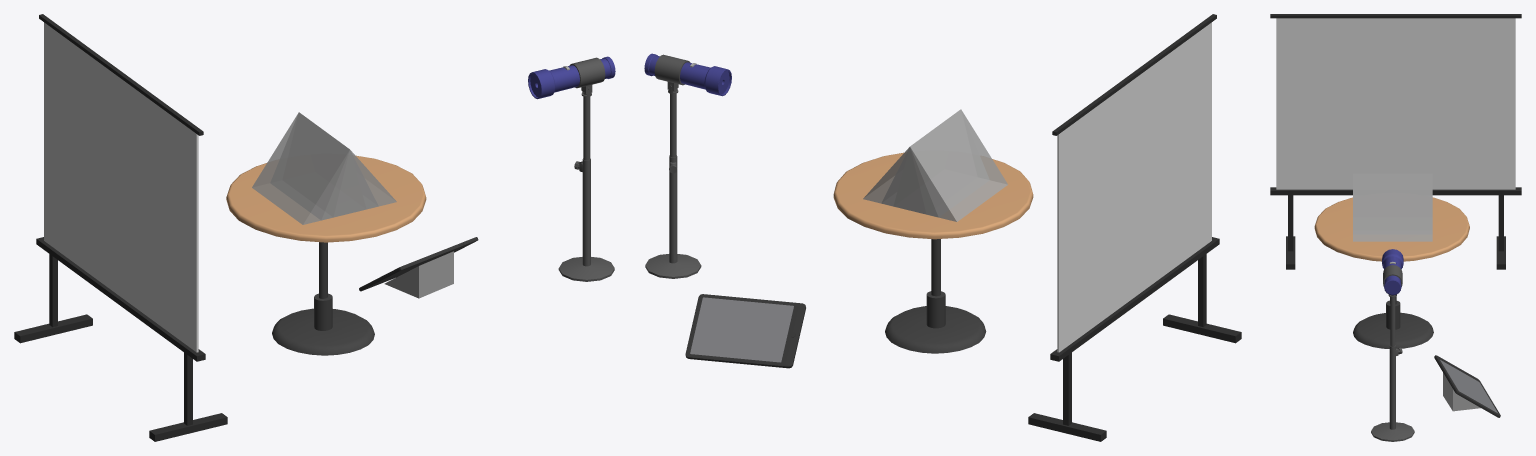
File: Prism_3.fbx
3 renders of one model, left to right at view 1: azimuth 30°, elevation 25°; view 2: azimuth 150°, elevation 25°; view 3: azimuth 270°, elevation 25°, orthographic. The views are drawn at different scales.
Visible parts, largest first — view 1: Screen, Prism_Stand, Prism_75, Prism_45, polySurface7, pCube2, Torch, Prism_30, Tab, polySurface10; view 2: Screen, Prism_Stand, Prism_75, Tab, Prism_45, polySurface7, Torch, Prism_30, polySurface10; view 3: Screen, Prism_Stand, Prism_75, Prism_45, Tab, polySurface7, Torch, pCube2, polySurface8.
Part boxes in pixels (x1,y1,x2,y2): Screen: [14, 14, 227, 441]; Prism_Stand: [226, 155, 426, 355]; Prism_75: [252, 112, 396, 224]; Prism_45: [270, 113, 378, 220]; polySurface7: [558, 158, 614, 281]; pCube2: [384, 251, 453, 298]; Torch: [528, 56, 615, 99]; Prism_30: [334, 150, 365, 217]; Tab: [359, 237, 478, 291]; polySurface10: [569, 57, 605, 93]; Screen: [1028, 14, 1241, 441]; Prism_Stand: [833, 152, 1033, 353]; Prism_75: [863, 109, 1007, 221]; Tab: [685, 294, 805, 368]; Prism_45: [882, 110, 989, 217]; polySurface7: [645, 155, 701, 278]; Torch: [644, 53, 731, 96]; Prism_30: [893, 147, 926, 213]; polySurface10: [654, 54, 690, 90]; Screen: [1270, 14, 1521, 269]; Prism_Stand: [1314, 197, 1469, 348]; Prism_75: [1353, 173, 1432, 241]; Prism_45: [1353, 174, 1432, 234]; Tab: [1434, 355, 1500, 417]; polySurface7: [1371, 345, 1414, 441]; Torch: [1382, 249, 1403, 295]; pCube2: [1443, 373, 1480, 411]; polySurface8: [1388, 294, 1396, 346].
Size of the model in its own units: 314 by 189 by 167.
